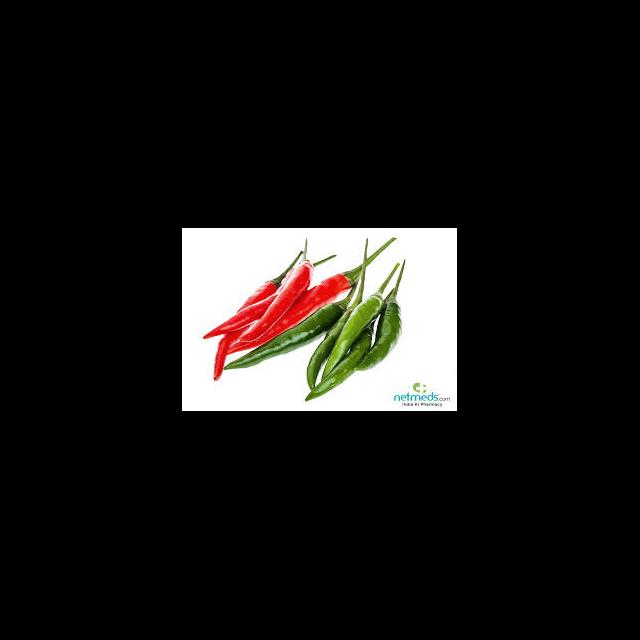chili_pepper: (223, 274, 352, 357), (228, 308, 342, 370), (233, 262, 314, 346), (321, 298, 382, 383), (306, 330, 374, 402), (355, 276, 402, 372), (204, 293, 274, 340)
